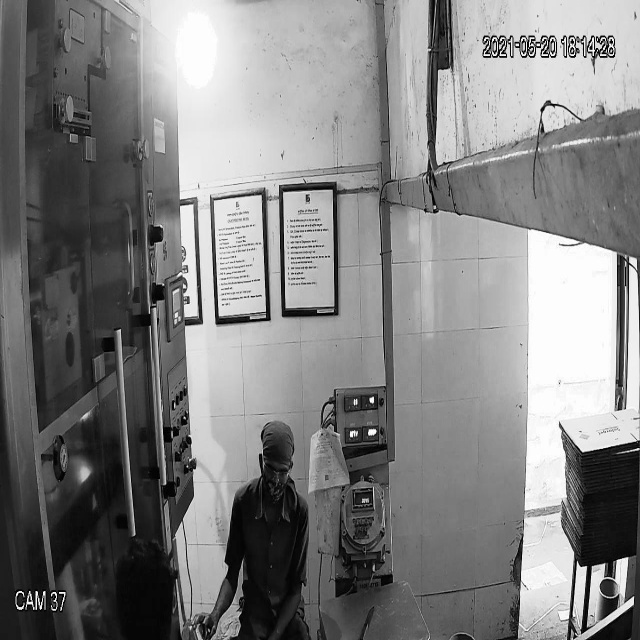Gafas: (258, 453, 295, 489)
